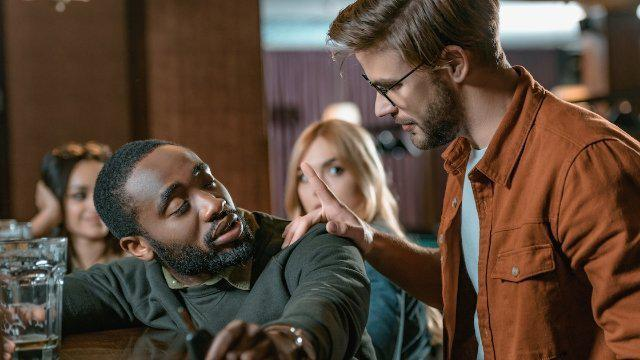Drunk: (132, 149, 247, 263)
